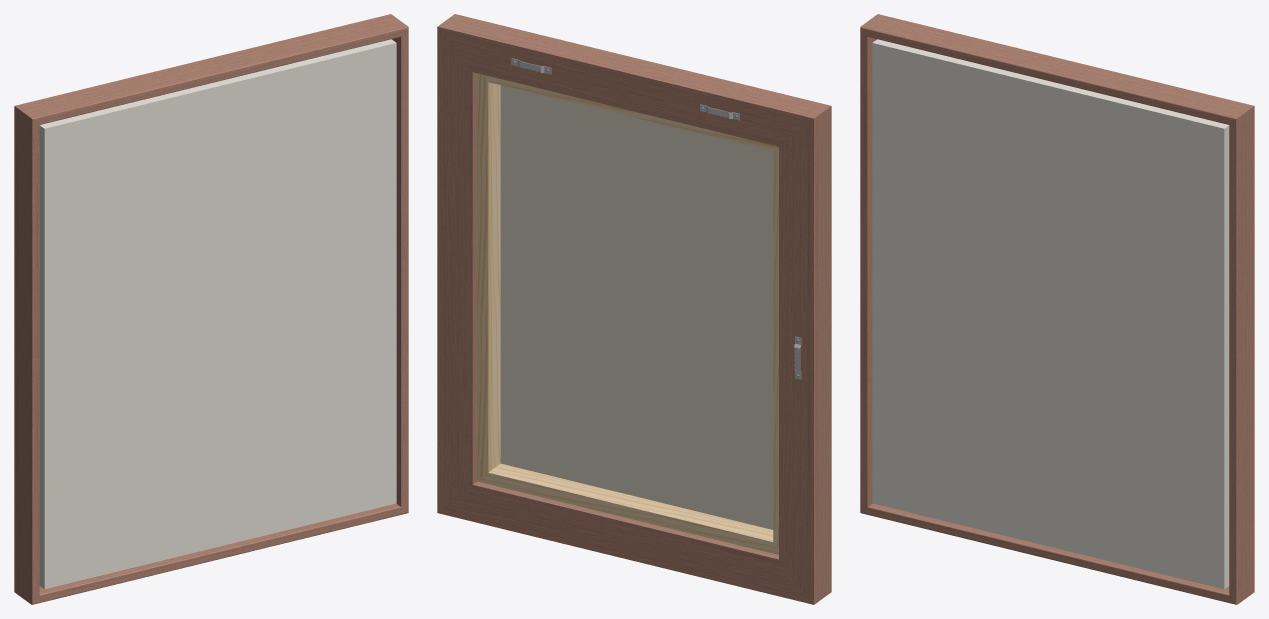
The model's file is decoded-from-delivery.glb.
The picture shows the model from 3 angles, left to right: view 1: azimuth 30°, elevation 25°; view 2: azimuth 150°, elevation 25°; view 3: azimuth 330°, elevation 25°; orthographic projection.
Parts seen in each view (by area): view 1: Canvas artwork front, Tray approved profile 0; view 2: Canvas linen reverse, Tray approved profile 0, Stretcher top, Sawtooth hanger 0; view 3: Canvas artwork front, Tray approved profile 0.
Boxes of the visible parts, box(x1,y1,x2,y2) form: Canvas artwork front: box(39, 39, 396, 589); Tray approved profile 0: box(14, 14, 408, 604); Canvas linen reverse: box(500, 85, 773, 529); Tray approved profile 0: box(437, 14, 831, 604); Stretcher top: box(477, 73, 778, 554); Sawtooth hanger 0: box(511, 58, 801, 379); Canvas artwork front: box(872, 39, 1229, 589); Tray approved profile 0: box(860, 14, 1254, 604).
Size of the model in its own units: 0.428 by 0.528 by 0.0374.
7 materials, 3 textured.
